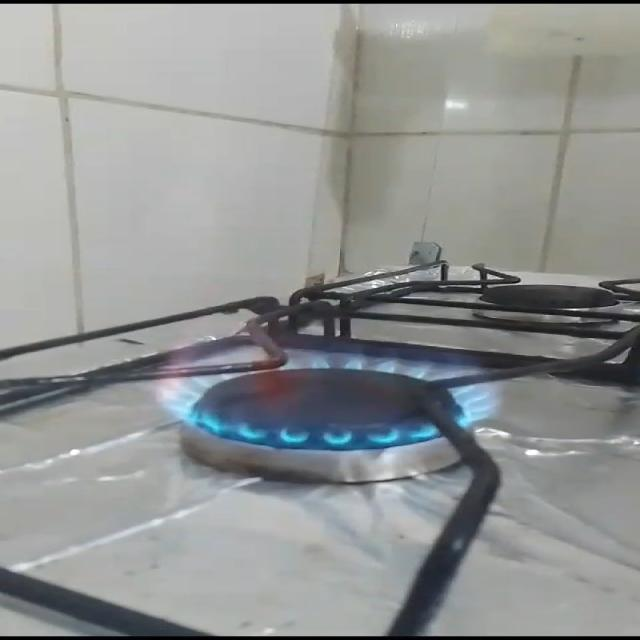fogo-ypXI: (155, 326, 508, 447)
